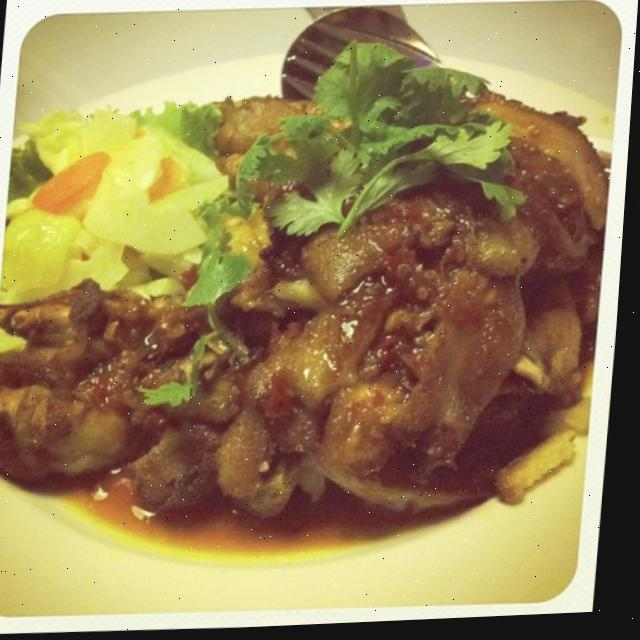猪肉菜式: (0, 25, 602, 578)
